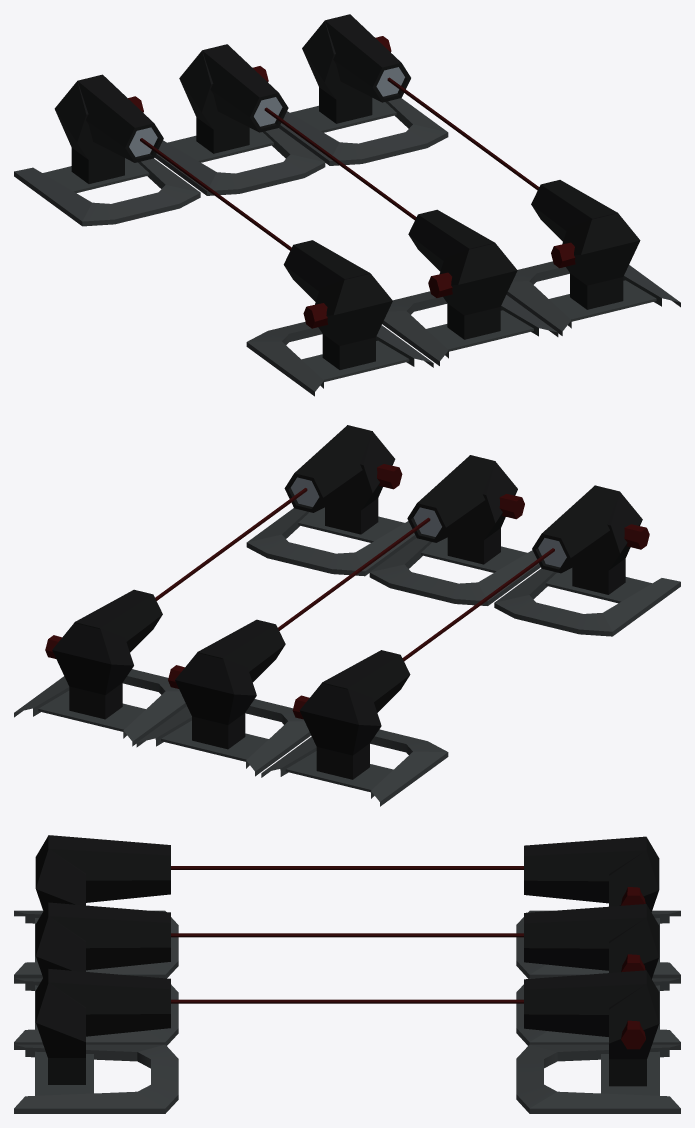
The model's file is Lasers.fbx.
3 renders of one model, top to bottom at view 1: azimuth 30°, elevation 25°; view 2: azimuth 150°, elevation 25°; view 3: azimuth 270°, elevation 25°, orthographic. The views are drawn at different scales.
Parts seen in each view (by area): view 1: Lasers; view 2: Lasers; view 3: Lasers.
Boxes of the visible parts, x1,y1,x2,y2 form: Lasers: [14, 14, 680, 396]; Lasers: [14, 425, 680, 806]; Lasers: [14, 835, 680, 1113].
Bounding box in the file's own units: 3.09 × 0.7691 × 4.4.
